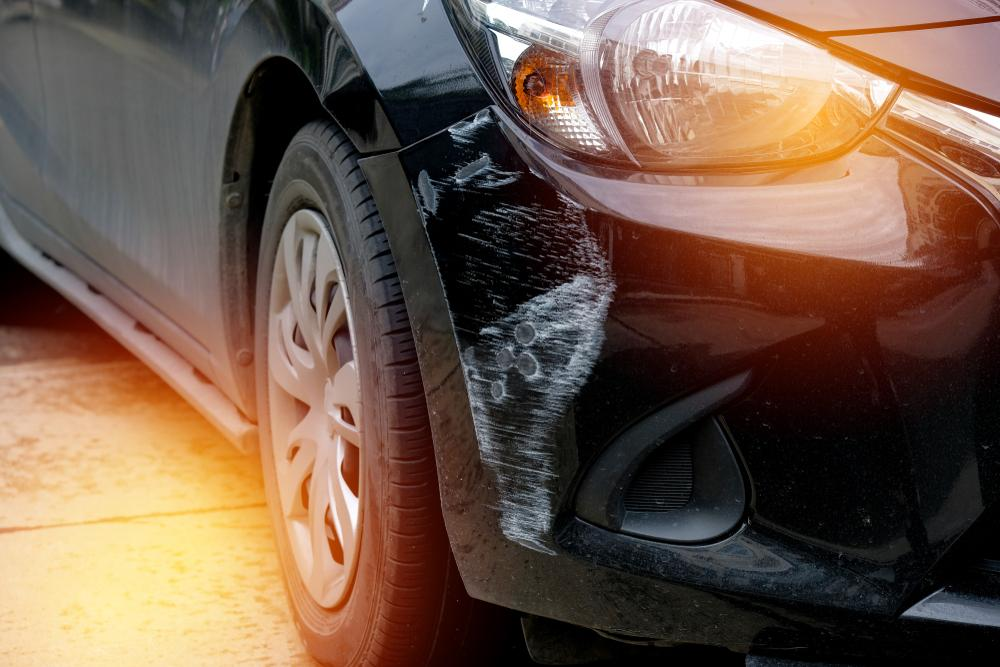scratch: (398, 106, 619, 559)
